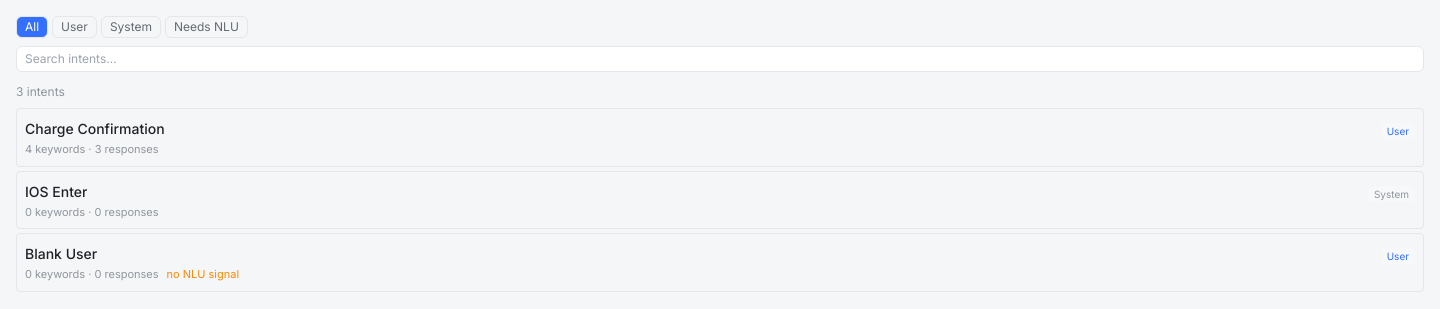
Test: IntentsPanel › filters by type
Click the button with test id "chip-system".
click(131, 27)  # box [101,16,161,38]
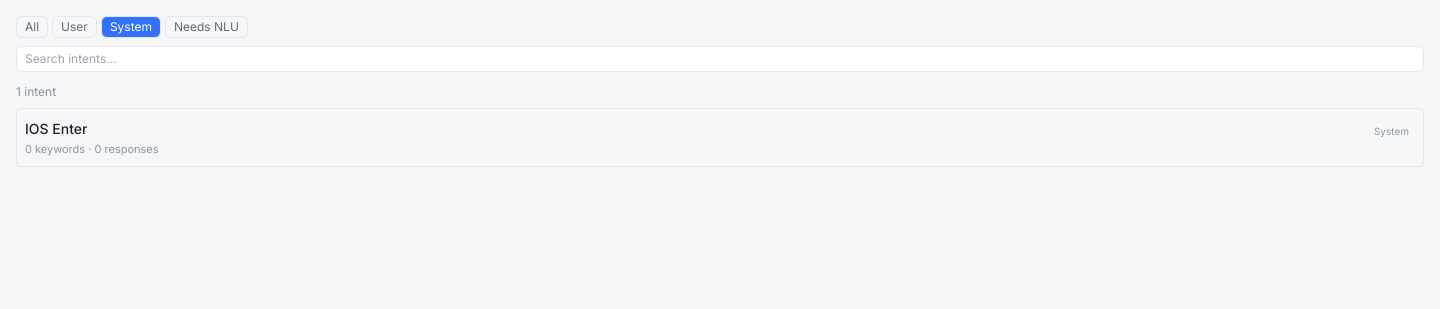
Expected: the text "IOS Enter" is shown, [25,119,88,139]
Now the number of list items with test id "intent-row" is 1, box [16,108,1424,166]
